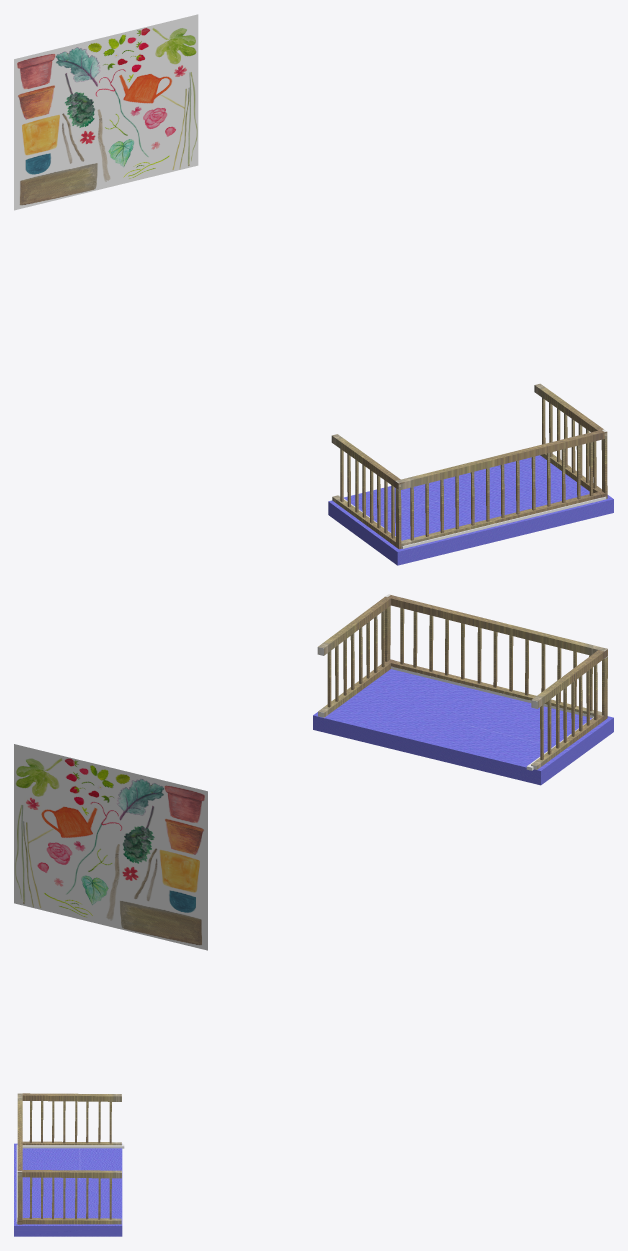
Rendered from balcony.fbx.
3 renders of one model, top to bottom at view 1: azimuth 30°, elevation 25°; view 2: azimuth 150°, elevation 25°; view 3: azimuth 270°, elevation 25°, orthographic. The views are drawn at different scales.
Parts seen in each view (by area): view 1: Quad, floor, railing, railing_1, railing_17, railing_16, Cube__26_; view 2: Quad, floor, railing, railing_1, railing_17, railing_16, railing_35, railing_26, Cube__26_; view 3: floor, railing_16, railing_17, railing_35, railing, railing_26, Cube__5_.
Part boxes in pixels (box(x1,y1,x2,y2)): Quad: box(14, 14, 198, 210); floor: box(328, 455, 613, 565); railing: box(395, 429, 604, 490); railing_1: box(401, 491, 603, 548); railing_17: box(331, 434, 404, 489); railing_16: box(534, 383, 607, 433); Cube__26_: box(403, 496, 606, 548); Quad: box(14, 744, 207, 950); floor: box(313, 669, 613, 785); railing: box(385, 596, 607, 658); railing_1: box(385, 660, 603, 715); railing_17: box(531, 649, 607, 708); railing_16: box(317, 595, 393, 655); railing_35: box(318, 659, 394, 717); railing_26: box(531, 714, 604, 769); Cube__26_: box(391, 666, 593, 717); floor: box(14, 1143, 122, 1236); railing_16: box(17, 1170, 121, 1178); railing_17: box(22, 1093, 121, 1101); railing_35: box(17, 1218, 121, 1224); railing: box(17, 1093, 22, 1171); railing_26: box(22, 1141, 121, 1145); Cube__5_: box(16, 1144, 124, 1148).
Size of the model in its own units: 1350 by 1340 by 4152.
